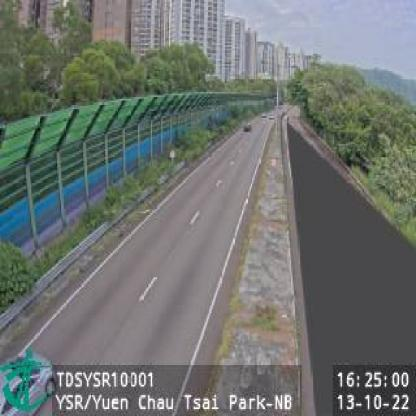Car: (0, 351, 57, 416), (244, 123, 254, 134)
